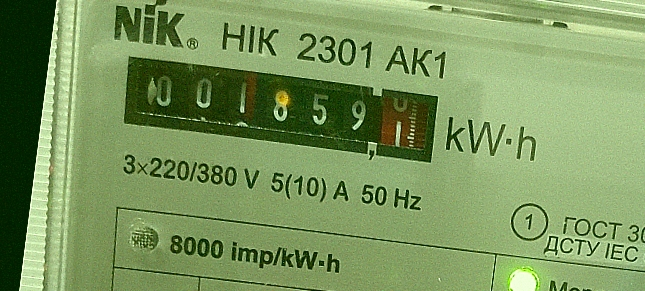0: (152, 71, 176, 109), (192, 74, 215, 109)
1: (235, 78, 250, 115), (389, 116, 406, 148)
5: (307, 89, 332, 127)
8: (269, 86, 293, 123)
9: (346, 96, 369, 132)
screen: (108, 41, 451, 173)
